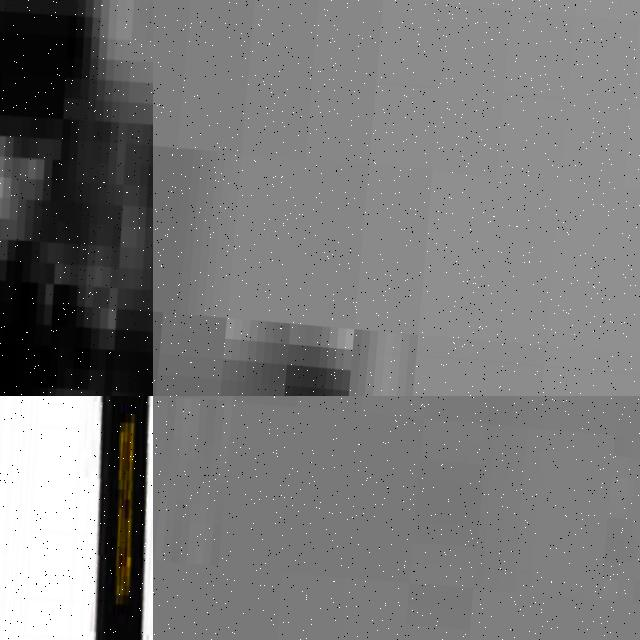drone: (0, 0, 153, 396), (0, 396, 153, 640)
